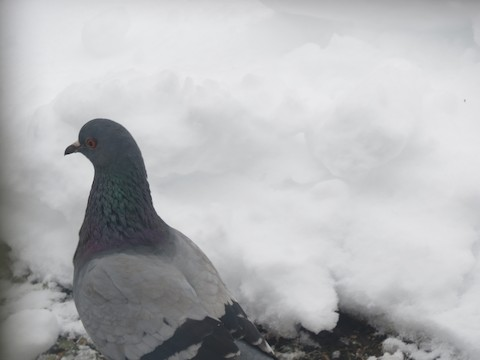pigeon: (48, 113, 292, 353)
